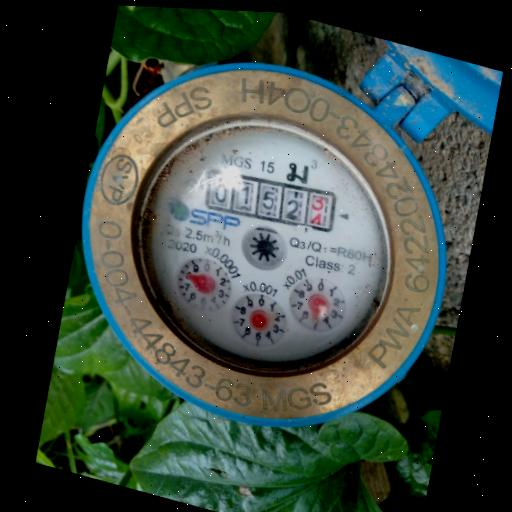0: (207, 175, 233, 209)
1: (232, 180, 257, 214)
2: (280, 187, 308, 224)
3: (303, 189, 333, 228)
5: (254, 183, 281, 219)
border_water_meter_number: (198, 157, 342, 244)
